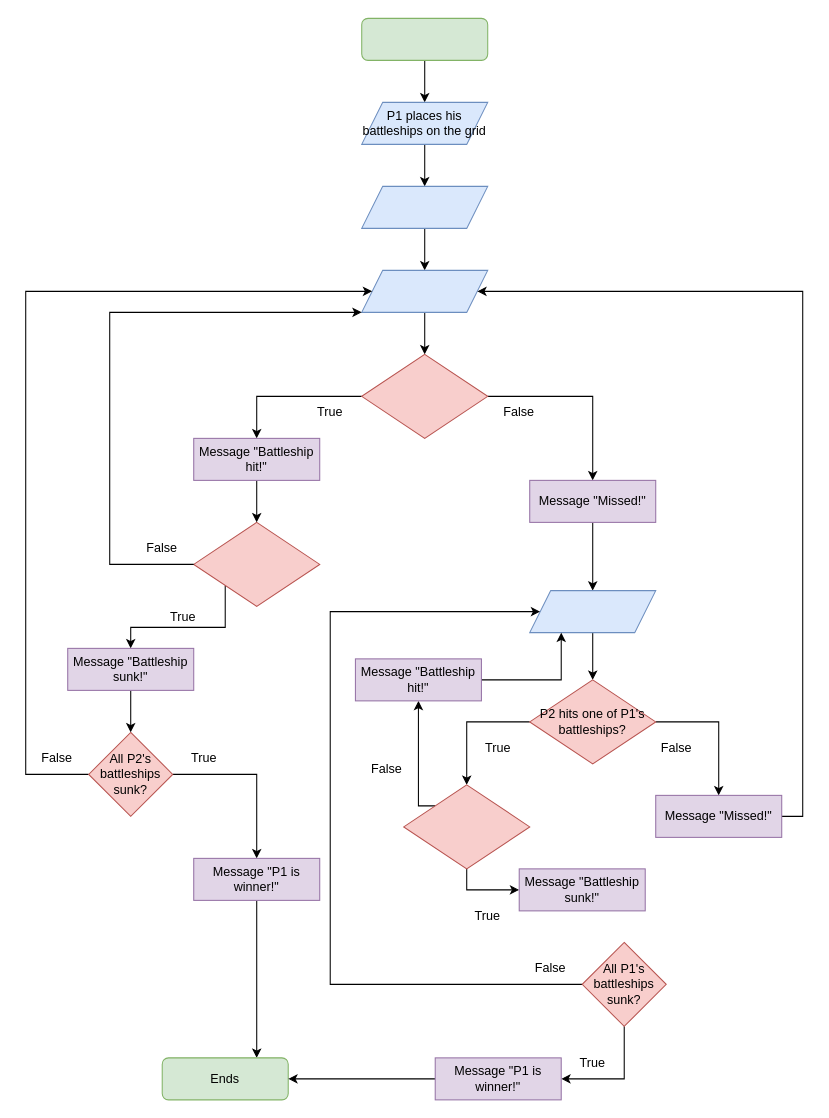
The diagram is 829 pixels wide and 1118 high, and some of its shapes have lost their labels. Here are the shapes that lost their labels. From the top down, the centre of each, then its label:
At pixel 424 38: "Starts".
At pixel 424 206: "P2 places his battleships on the grid".
At pixel 424 290: "P1 instructs strikes".
At pixel 424 395: "P1 hits one of P2's battleships?".
At pixel 256 563: "P1 sinks one of P2's battleships?".
At pixel 592 611: "P2 instructs strikes".
At pixel 466 826: "P2 sinks one of P1's battleships?".
